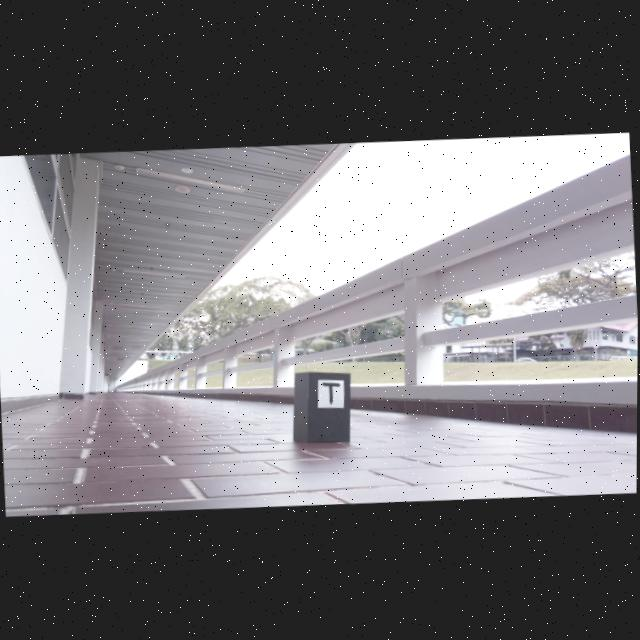T: (323, 382, 341, 402)
